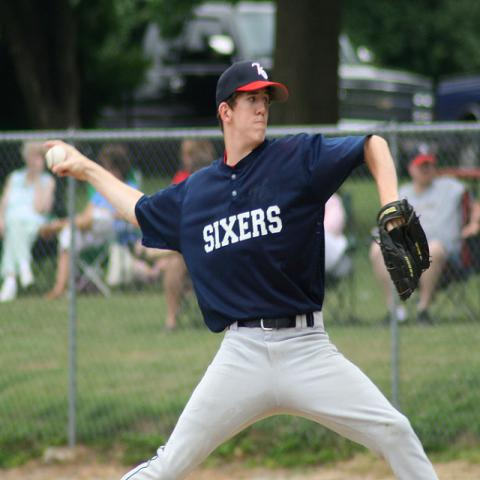car: (97, 1, 434, 128), (437, 75, 479, 123)
